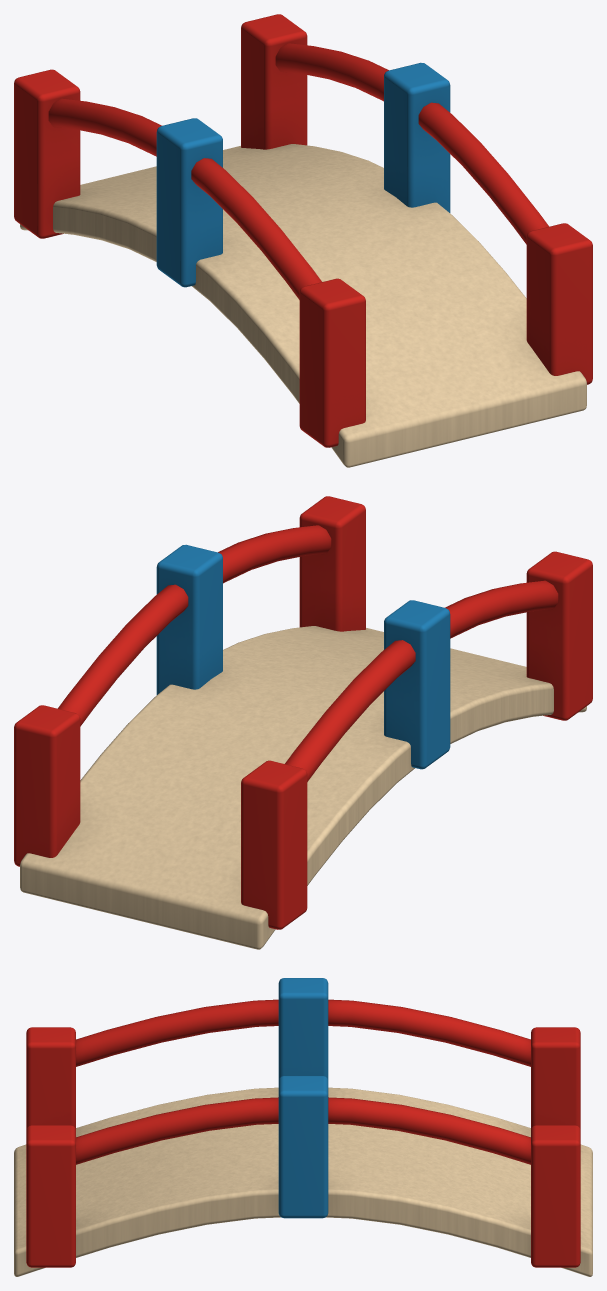
File: footbridge.fbx
3 renders of one model, top to bottom at view 1: azimuth 30°, elevation 25°; view 2: azimuth 150°, elevation 25°; view 3: azimuth 270°, elevation 25°, orthographic. The views are drawn at different scales.
Visible parts, largest first — view 1: footbridge; view 2: footbridge; view 3: footbridge.
Boxes of the visible parts, x1=… form: footbridge: x1=14, y1=14, x2=592, y2=467; footbridge: x1=14, y1=496, x2=592, y2=949; footbridge: x1=14, y1=978, x2=592, y2=1276.
Bounding box in the file's own units: 1615 × 1243 × 3400.
Materials: 1 (1 with a texture image).
